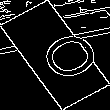O_SW: (17, 23, 93, 87)
